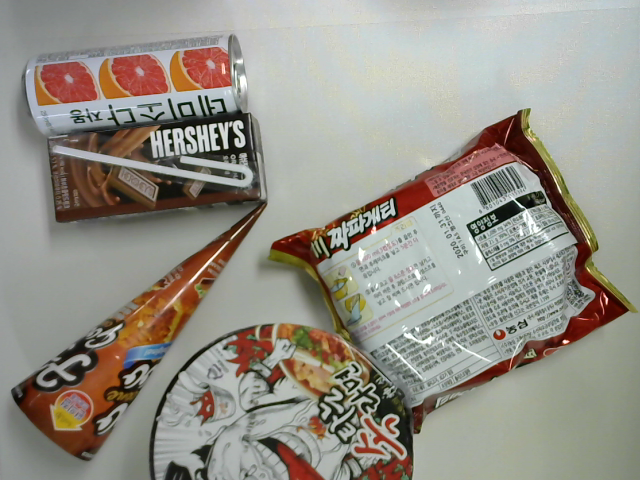Demisoda_Grapefruit_Can_250ml: (19, 31, 254, 136)
GooGoo_Cone_CVS: (8, 196, 275, 470)
HeJangsock: (142, 315, 423, 480)
Hush_Choco_Drink: (41, 106, 274, 232)
Sichuan_Chapaghetti: (270, 106, 639, 435)
